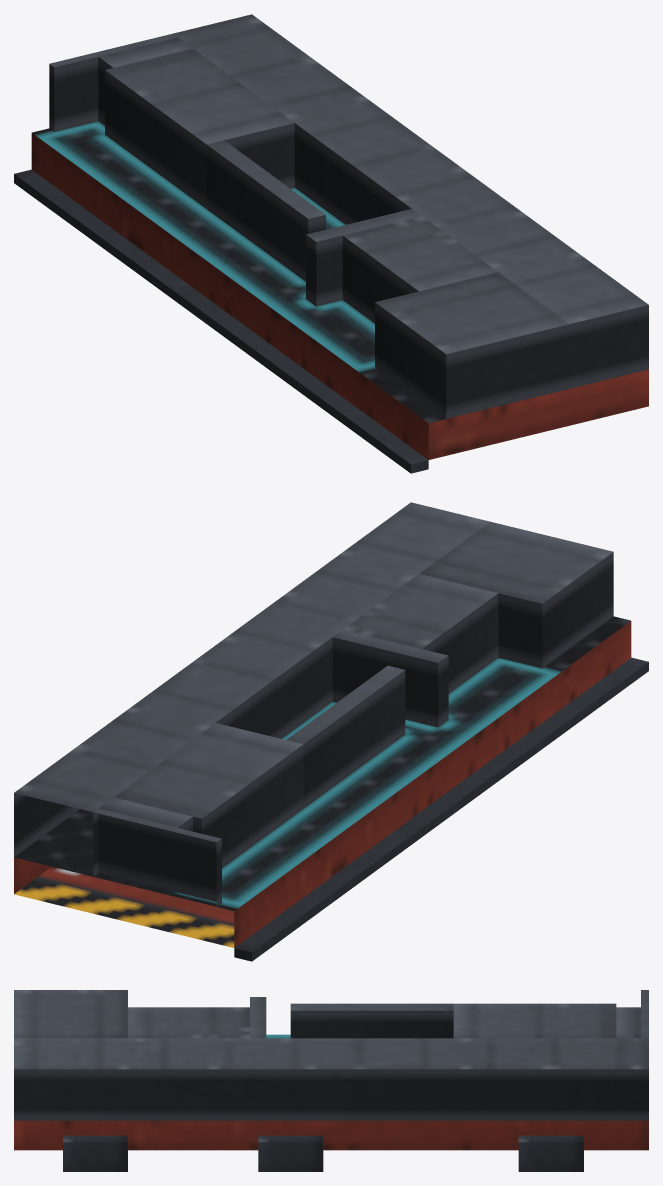
The model's file is loadout_station_door_left.obj.
The picture shows the model from 3 angles, top to bottom: view 1: azimuth 30°, elevation 25°; view 2: azimuth 150°, elevation 25°; view 3: azimuth 270°, elevation 25°; orthographic projection. The views are drawn at different scales.
Parts seen in each view (by area): view 1: loadout_station_door_left_Fill_outer, loadout_station_door_left_Skin, loadout_station_door_left_Fill_top, loadout_station_door_left_Fill_leg, loadout_station_door_left_Seam_lip, loadout_station_door_left_Fill_head, loadout_station_door_left_Fill_sep, loadout_station_door_left_Fill_kick, loadout_station_door_left_Fill_neck, loadout_station_door_left_Fill_boot; view 2: loadout_station_door_left_Skin, loadout_station_door_left_Fill_outer, loadout_station_door_left_Fill_top, loadout_station_door_left_Fill_leg, loadout_station_door_left_Seam_lip, loadout_station_door_left_Fill_head, loadout_station_door_left_Fill_sep, loadout_station_door_left_Fill_kick, loadout_station_door_left_Fill_neck, loadout_station_door_left_Fill_boot; view 3: loadout_station_door_left_Fill_outer, loadout_station_door_left_Skin, loadout_station_door_left_Fill_sep, loadout_station_door_left_Fill_leg, loadout_station_door_left_Fill_top, loadout_station_door_left_Fill_head, loadout_station_door_left_Knuckle_0, loadout_station_door_left_Knuckle_1, loadout_station_door_left_Knuckle_2, loadout_station_door_left_Fill_boot, loadout_station_door_left_Fill_neck, loadout_station_door_left_Fill_kick.
Part boxes in pixels (<box>): loadout_station_door_left_Fill_outer: <box>173,14,648,388</box>; loadout_station_door_left_Skin: <box>31,121,648,459</box>; loadout_station_door_left_Fill_top: <box>375,272,569,418</box>; loadout_station_door_left_Fill_leg: <box>105,48,294,208</box>; loadout_station_door_left_Seam_lip: <box>14,169,428,473</box>; loadout_station_door_left_Fill_head: <box>342,216,497,323</box>; loadout_station_door_left_Fill_sep: <box>206,140,325,281</box>; loadout_station_door_left_Fill_kick: <box>49,33,177,131</box>; loadout_station_door_left_Fill_neck: <box>306,209,421,306</box>; loadout_station_door_left_Fill_boot: <box>98,37,192,125</box>; loadout_station_door_left_Skin: <box>14,616,631,947</box>; loadout_station_door_left_Fill_outer: <box>14,502,489,876</box>; loadout_station_door_left_Fill_top: <box>419,521,613,668</box>; loadout_station_door_left_Fill_leg: <box>114,723,303,868</box>; loadout_station_door_left_Seam_lip: <box>234,657,648,961</box>; loadout_station_door_left_Fill_head: <box>343,574,498,693</box>; loadout_station_door_left_Fill_sep: <box>286,665,405,808</box>; loadout_station_door_left_Fill_kick: <box>93,808,221,906</box>; loadout_station_door_left_Fill_neck: <box>332,630,448,727</box>; loadout_station_door_left_Fill_boot: <box>98,797,192,831</box>; loadout_station_door_left_Fill_outer: <box>14,1038,648,1120</box>; loadout_station_door_left_Skin: <box>14,1034,648,1150</box>; loadout_station_door_left_Fill_sep: <box>290,1003,453,1038</box>; loadout_station_door_left_Fill_leg: <box>453,1003,616,1038</box>; loadout_station_door_left_Fill_top: <box>14,990,127,1038</box>; loadout_station_door_left_Fill_head: <box>128,1007,249,1038</box>; loadout_station_door_left_Knuckle_0: <box>518,1135,583,1171</box>; loadout_station_door_left_Knuckle_1: <box>258,1135,323,1171</box>; loadout_station_door_left_Knuckle_2: <box>63,1135,127,1171</box>; loadout_station_door_left_Fill_boot: <box>616,1007,640,1038</box>; loadout_station_door_left_Fill_neck: <box>250,997,266,1038</box>; loadout_station_door_left_Fill_kick: <box>641,990,648,1038</box>.
Bounding box in the file's own units: 0.9062 × 0.4062 × 2.44.
